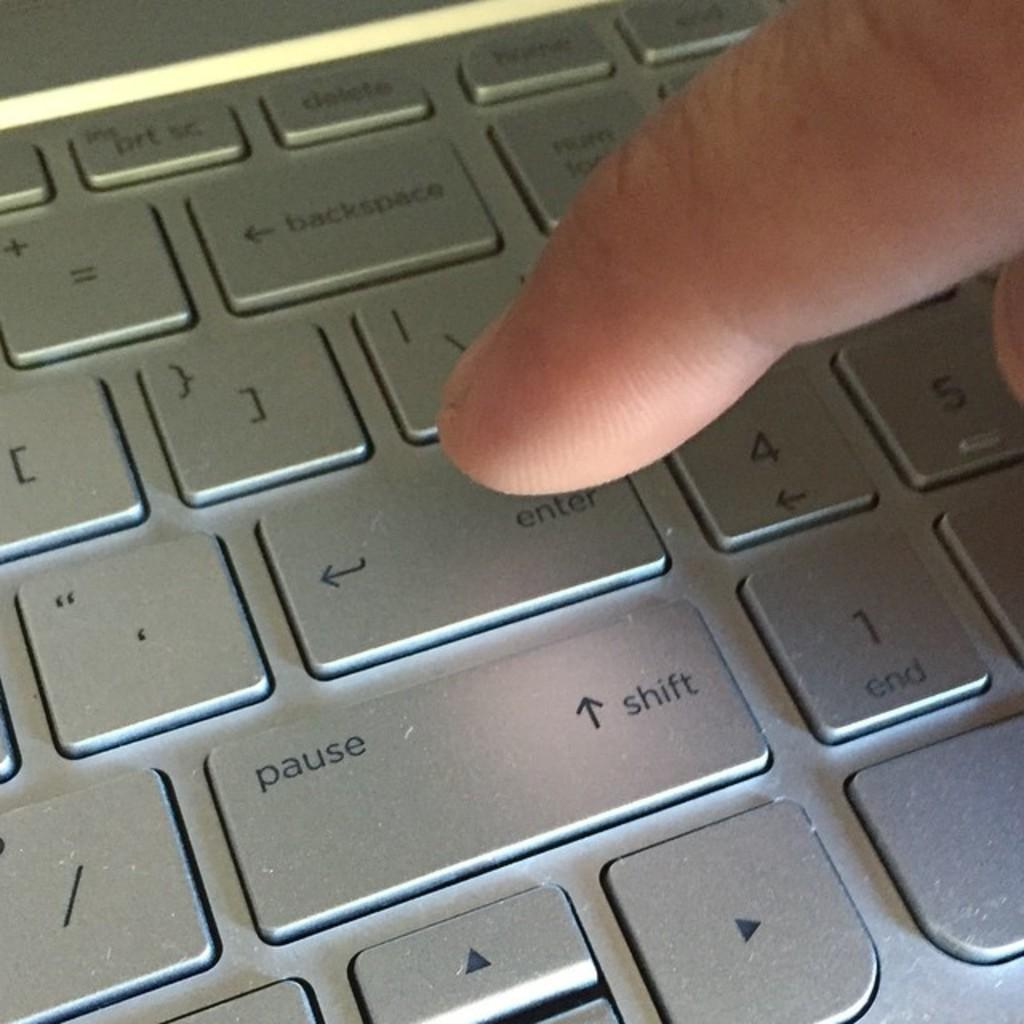Laptop: (0, 0, 1022, 1022)
